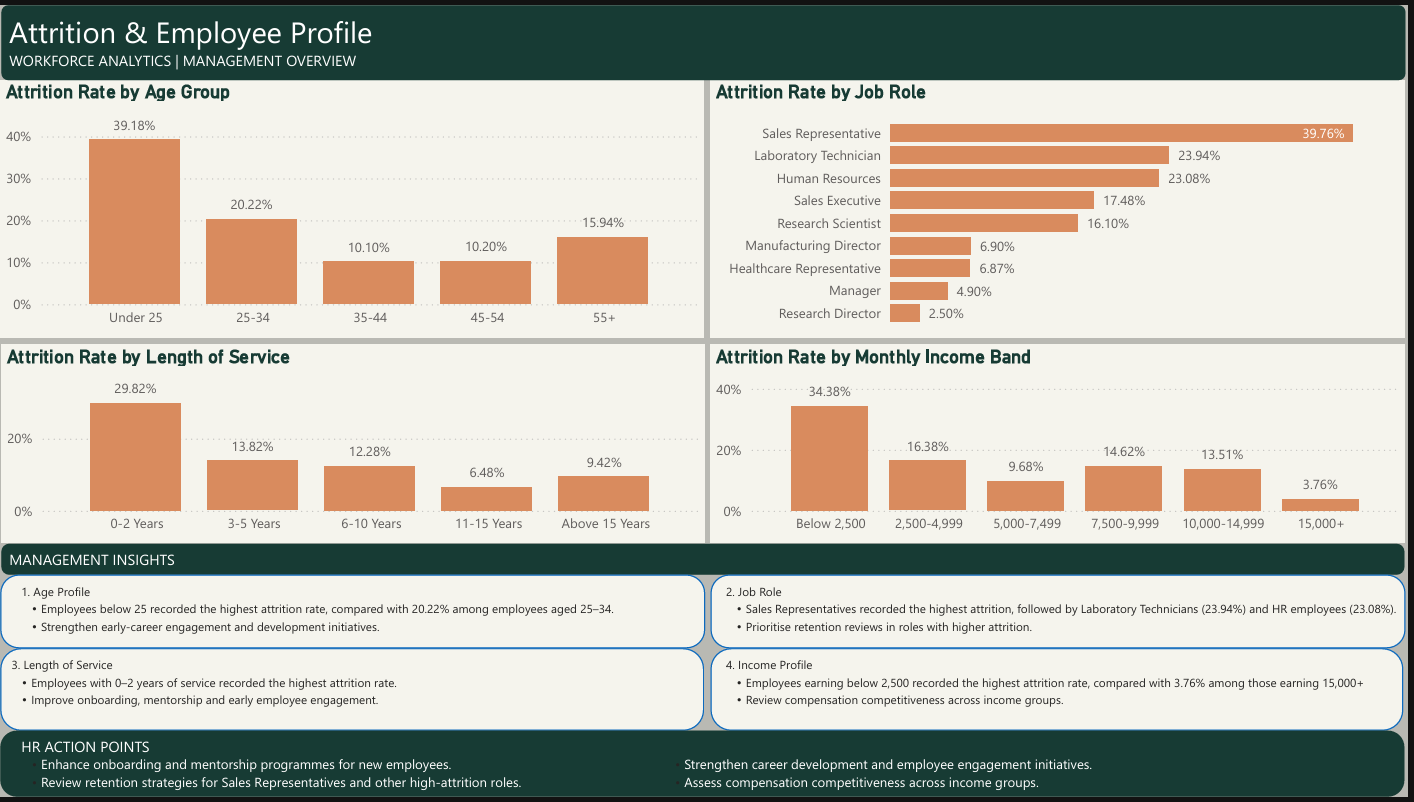

What the dashboard file says about the page in this screenshot:
{"tool":"powerbi","page":{"name":"Attrition & Employee Profile","canvas":[1280,720],"ordinal":1},"visuals":[{"type":"clusteredColumnChart","title":"Attrition Rate by Age Group","fields":{"Category":["HR-Employee-Attriti.Age Group"],"Y":["HR-Employee-Attriti.Attrition Rate"]},"box":[0,68,640,234],"z":0},{"type":"clusteredBarChart","title":"Attrition Rate by Job Role","fields":{"Category":["HR-Employee-Attriti.JobRole"],"Y":["HR-Employee-Attriti.Attrition Rate"]},"box":[646,68,632,234],"z":1000},{"type":"clusteredColumnChart","title":"Attrition Rate by Length of Service","fields":{"Y":["HR-Employee-Attriti.Attrition Rate"],"Category":["HR-Employee-Attriti.Tenure Group"]},"box":[1,309,640,181],"z":2000},{"type":"clusteredColumnChart","title":"Attrition Rate by Monthly Income Band","fields":{"Y":["HR-Employee-Attriti.Attrition Rate"],"Category":["HR-Employee-Attriti.Income Band"]},"box":[646,309,632,181],"z":3000},{"type":"shape","box":[1,490,1276,28],"z":4000},{"type":"textbox","box":[3,490,265,28],"z":5000},{"type":"shape","box":[0,518,641,67],"z":6000},{"type":"shape","box":[646,518,632,67],"z":7000},{"type":"shape","box":[0,585,640,75],"z":8000},{"type":"shape","box":[646,585,630,75],"z":9000},{"type":"shape","box":[0,660,1277,60],"z":10000},{"type":"shape","box":[1,0,1277,68],"z":11000},{"type":"textbox","box":[3,0,413,68],"z":12000},{"type":"textbox","box":[14,518,632,67],"z":13000},{"type":"textbox","box":[655,518,623,75],"z":14000},{"type":"textbox","box":[5,585,626,65],"z":15000},{"type":"textbox","box":[655,585,622,65],"z":16000},{"type":"textbox","box":[14,660,600,60],"z":17000},{"type":"textbox","box":[599,677,677,43],"z":18000}]}

Visuals, with their boxes in screenshot pixels (x1, y1, x2, y2), scaled from the page's 1280x720 canvas onto the 1414x802 screenshot:
"Attrition Rate by Age Group" clusteredColumnChart: 0 76 707 336
"Attrition Rate by Job Role" clusteredBarChart: 714 76 1412 336
"Attrition Rate by Length of Service" clusteredColumnChart: 1 344 708 546
"Attrition Rate by Monthly Income Band" clusteredColumnChart: 714 344 1412 546
shape: 1 546 1411 577
textbox: 3 546 296 577
shape: 0 577 708 652
shape: 714 577 1412 652
shape: 0 652 707 735
shape: 714 652 1410 735
shape: 0 735 1411 801
shape: 1 0 1412 76
textbox: 3 0 460 76
textbox: 15 577 714 652
textbox: 724 577 1412 661
textbox: 6 652 697 724
textbox: 724 652 1411 724
textbox: 15 735 678 801
textbox: 662 754 1410 801
